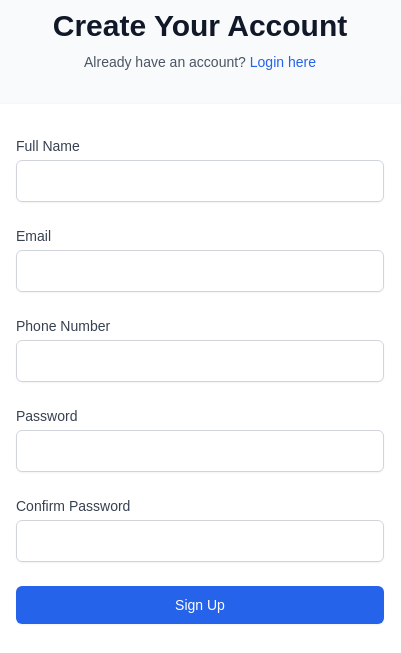
Test case: SignupPage › should show error when passwords do not match
This screenshot has width=401, height=653.
Type "Test User" into the field labelled "Full Name".
click(200, 181); type("Test User")  # box [16,160,384,202]
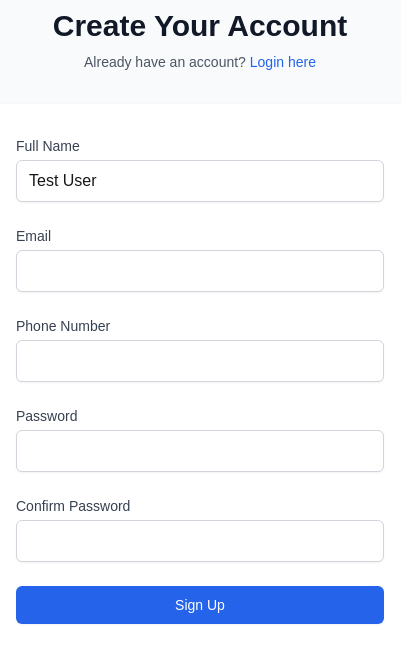
Type "test@example.com" into the field labelled "Email".
click(200, 271); type("test@example.com")  # box [16,250,384,292]
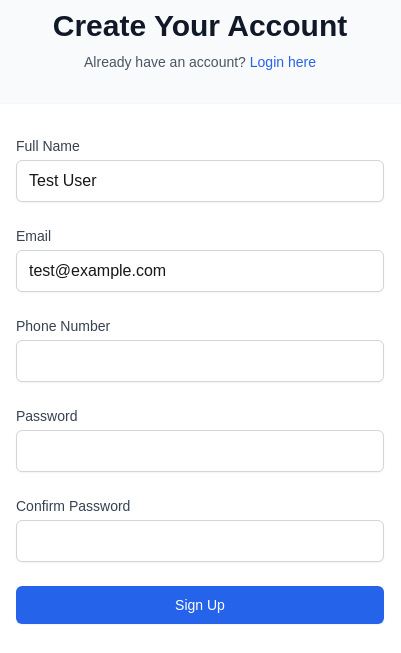
Type "+1234567890" into the field labelled "Phone Number".
click(200, 361); type("+1234567890")  # box [16,340,384,382]
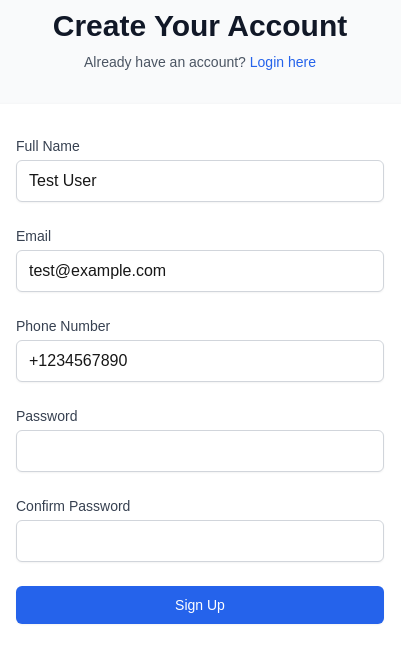
Type "password123" into the password field labelled "Password".
click(200, 451); type("password123")  # box [16,430,384,472]
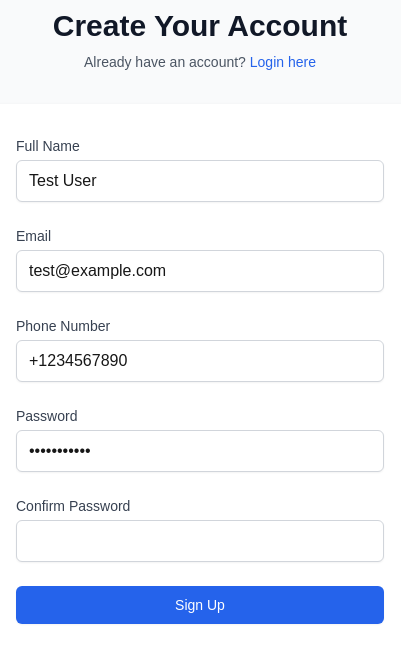
Type "different" into the password field labelled "Confirm Password".
click(200, 541); type("different")  # box [16,520,384,562]
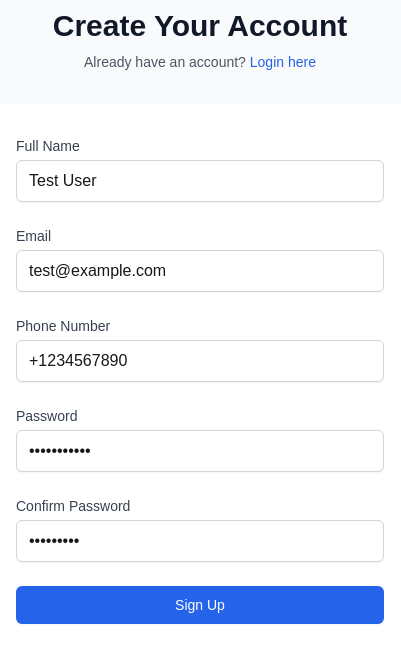
Click the button "Sign Up".
click(200, 605)  # box [16,586,384,624]
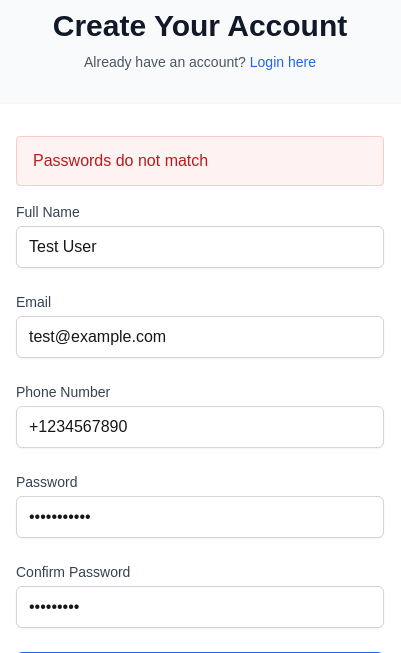
Result: the text "Passwords do not match" is shown at [16,136,384,186]
